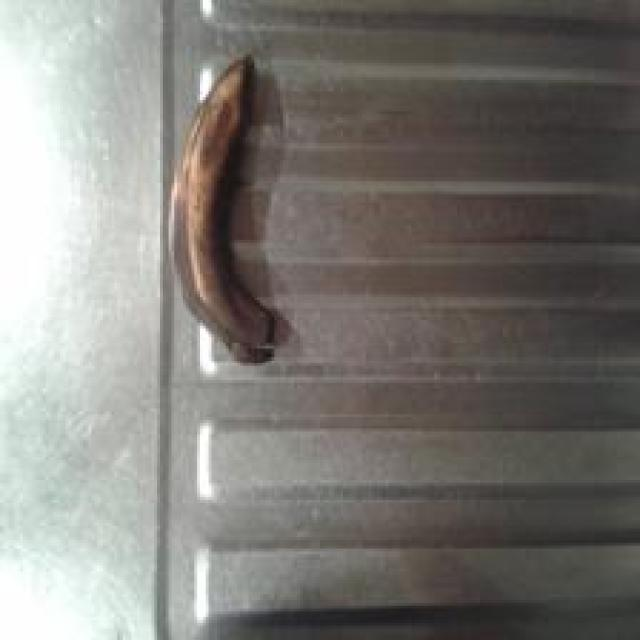Rotten_Banana: (142, 35, 298, 379)
